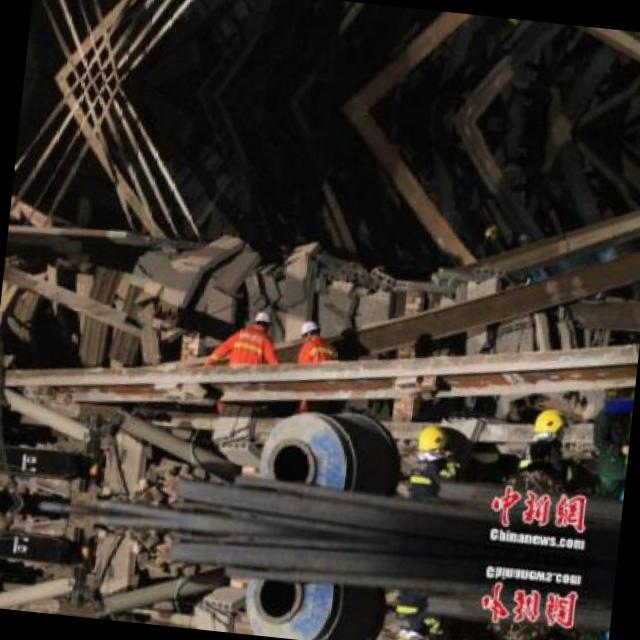helmet: (531, 406, 572, 454), (414, 422, 450, 464), (249, 306, 273, 334), (394, 624, 430, 640), (299, 317, 321, 343)
